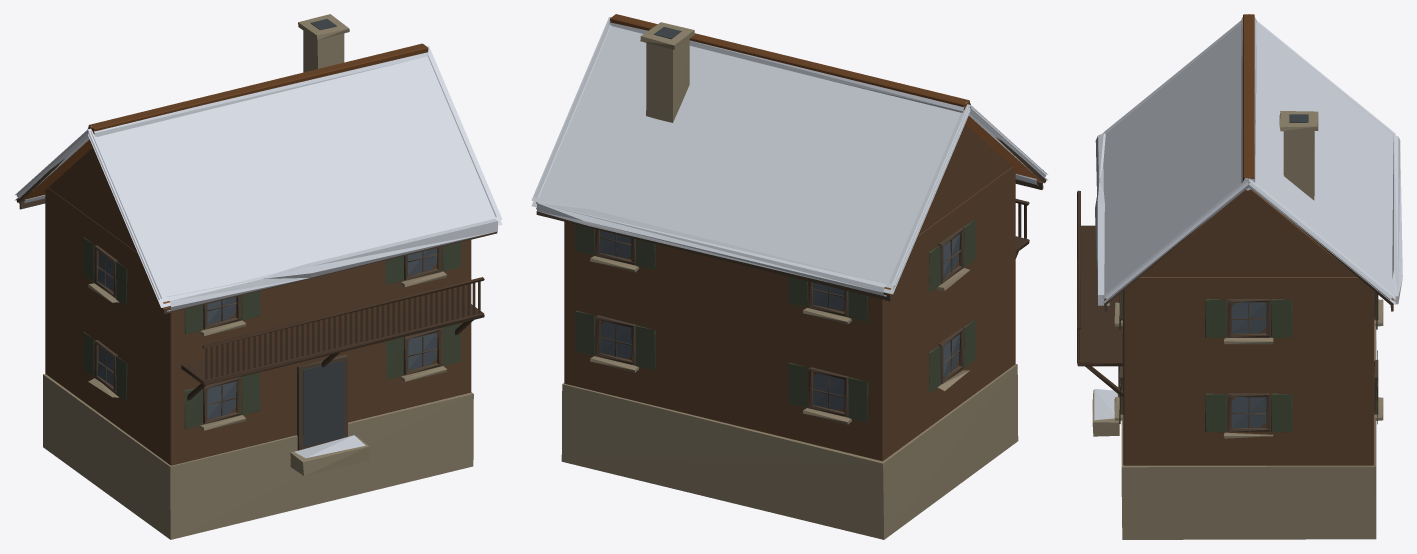
The model's file is house-stone-balcony-snow-lod1.glb.
The picture shows the model from 3 angles, left to right: view 1: azimuth 30°, elevation 25°; view 2: azimuth 150°, elevation 25°; view 3: azimuth 270°, elevation 25°; orthographic projection. The views are drawn at different scales.
Size of the model in its own units: 10.2 by 11.2 by 8.44.
